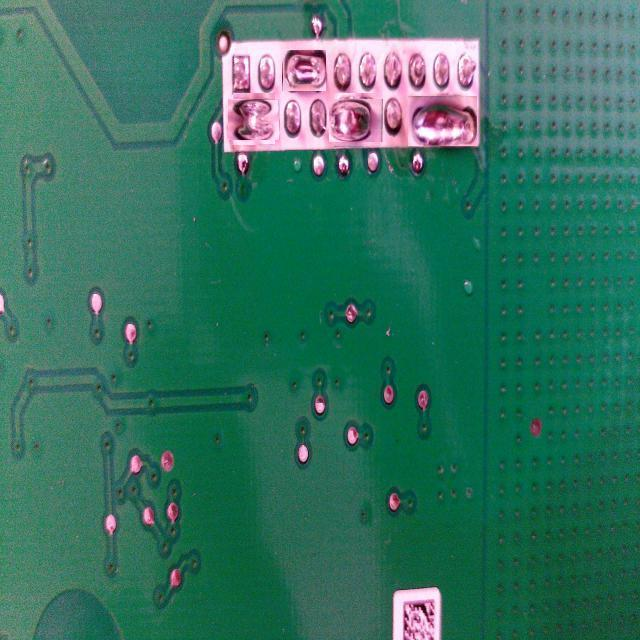Short_circuit: (408, 95, 478, 146), (331, 96, 381, 145), (231, 96, 278, 143), (282, 49, 326, 91)
